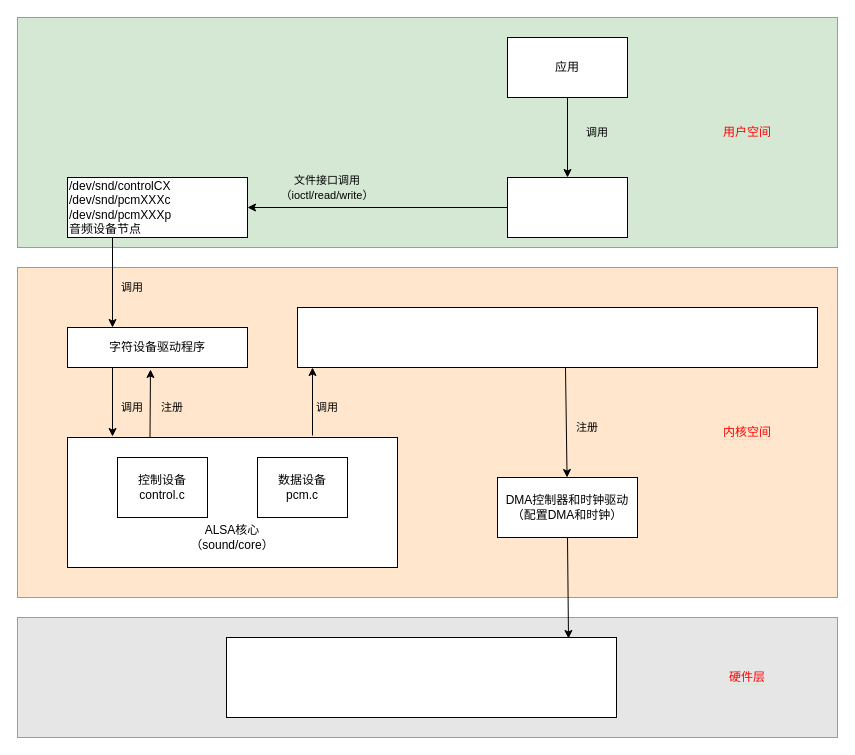
This 855x755 diagram has some shape labels left out. Here are the shapes that lost their labels. From the top down, the centre of each, then its label:
point 567,207: libalsa
point 557,337: ALSA驱动 （实现数据和控制）
point 421,677: 音频设备 （蓝牙耳机，ac97或者HD-audio接口耳机，麦克风，喇叭）
